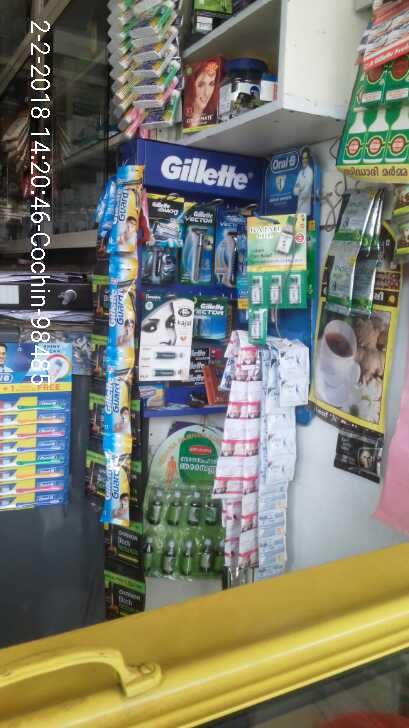gillette: (93, 438, 133, 530), (144, 196, 182, 283), (104, 258, 142, 343), (211, 206, 243, 295), (180, 200, 212, 281), (103, 354, 136, 432)
